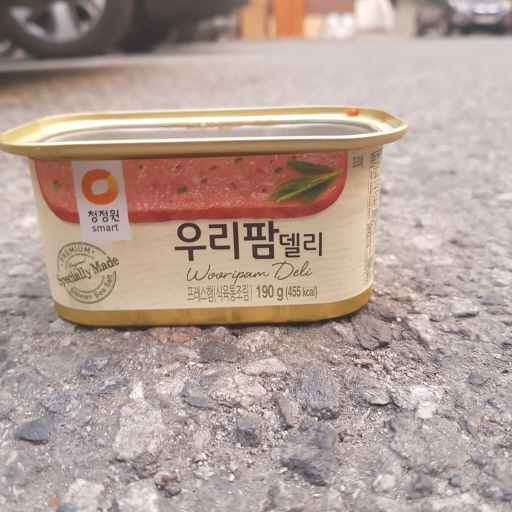Metal_2: (1, 107, 404, 329)
